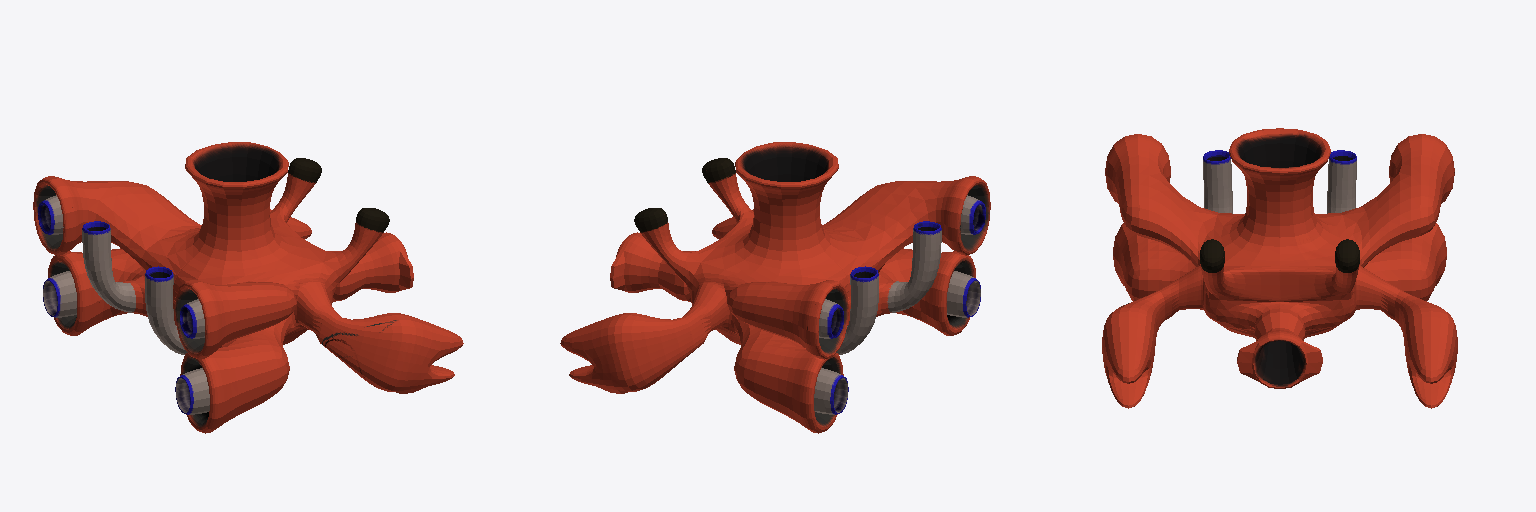
3 renders of one model, left to right at view 1: azimuth 30°, elevation 25°; view 2: azimuth 150°, elevation 25°; view 3: azimuth 270°, elevation 25°, orthographic.
Parts seen in each view (by area): view 1: Cube; view 2: Cube; view 3: Cube.
Part boxes in pixels (x1,y1,x2,y2): Cube: (33, 142, 463, 433); Cube: (560, 142, 990, 433); Cube: (1102, 128, 1457, 408).
Size of the model in its own units: 8.08 by 5.38 by 8.85.
1 materials, 1 textured.